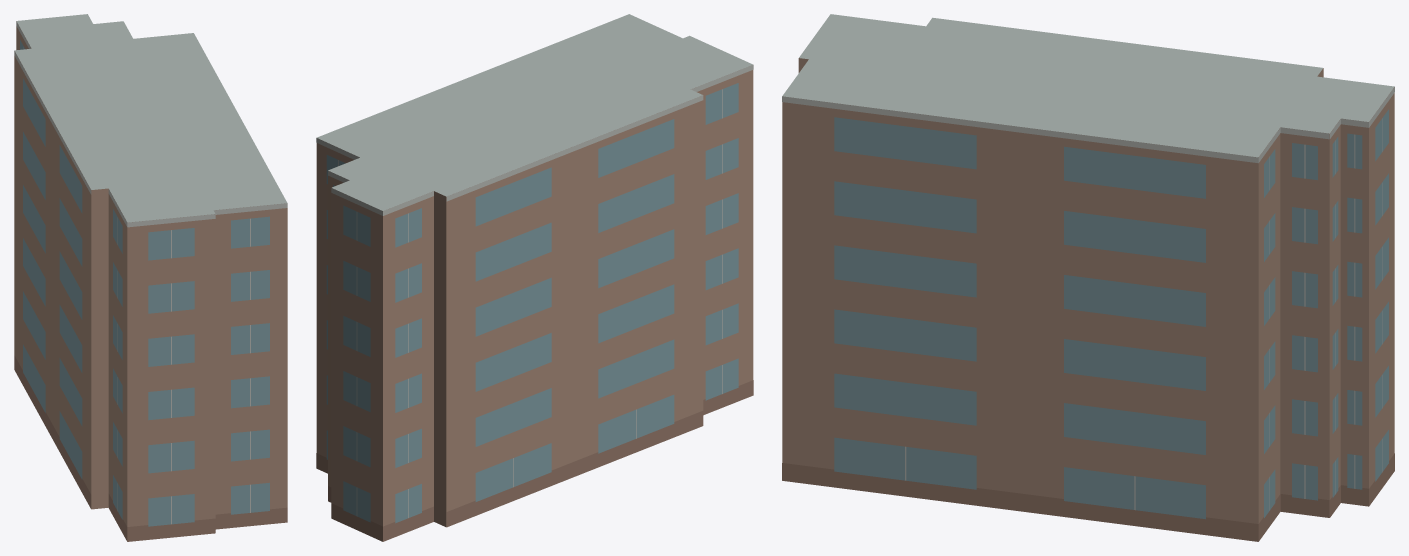
Rendered from survey-upis-33018742.glb.
3 views of the same model, side by side, from view 1: azimuth 30°, elevation 25°; view 2: azimuth 150°, elevation 25°; view 3: azimuth 270°, elevation 25° (orthographic). The views are drawn at different scales.
Parts seen in each view (by area): view 1: survey-upis-33018742.tmp; view 2: survey-upis-33018742.tmp; view 3: survey-upis-33018742.tmp.
Boxes of the visible parts, x1,y1,x2,y2 form: survey-upis-33018742.tmp: (14, 14, 287, 541); survey-upis-33018742.tmp: (316, 14, 753, 541); survey-upis-33018742.tmp: (782, 14, 1394, 541).
Bounding box in the file's own units: 12.97 × 16.2 × 23.41.
